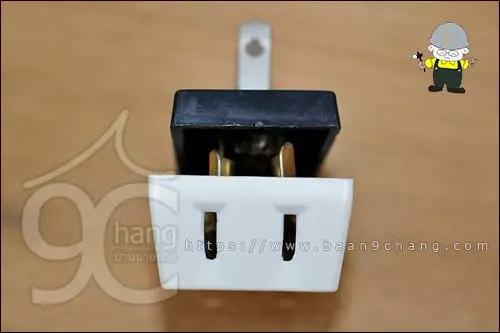Three_eye_plug: (149, 75, 361, 306)
